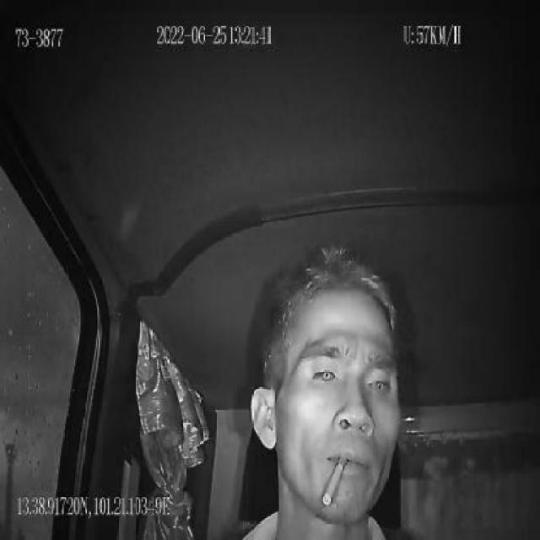smoking: (322, 456, 348, 506)
